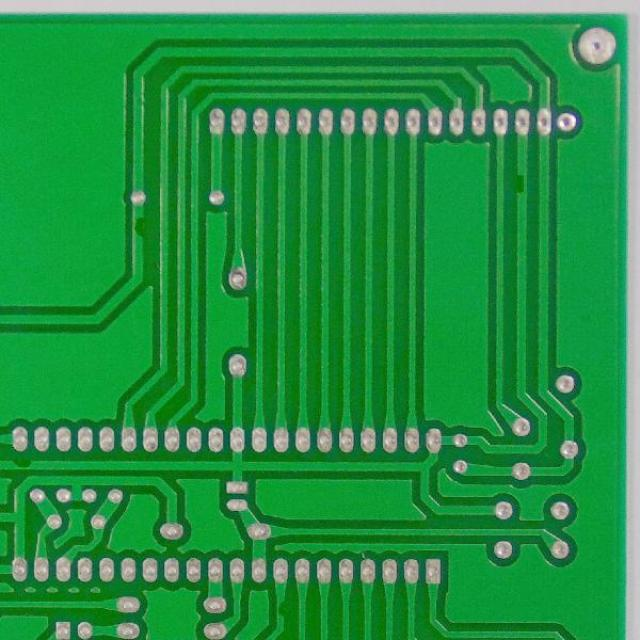MouseBite: (128, 208, 149, 245), (512, 166, 530, 200), (8, 456, 38, 474), (273, 595, 289, 620)
